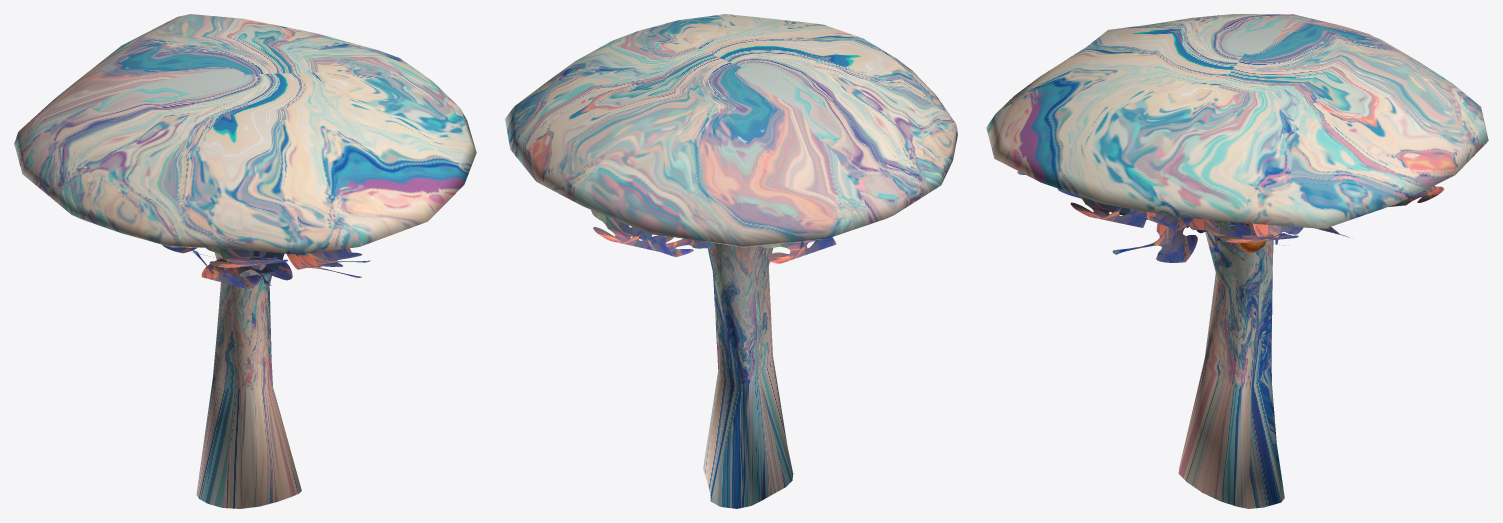
File: guoshimogu.FBX
3 renders of one model, left to right at view 1: azimuth 30°, elevation 25°; view 2: azimuth 150°, elevation 25°; view 3: azimuth 270°, elevation 25°, orthographic. The views are drawn at different scales.
Visible parts, largest first — view 1: 果实蘑菇的果实, 果实蘑菇叶子+杆; view 2: 果实蘑菇的果实, 果实蘑菇叶子+杆; view 3: 果实蘑菇的果实, 果实蘑菇叶子+杆.
Boxes of the visible parts, x1,y1,x2,y2 form: 果实蘑菇的果实: (14, 14, 476, 508); 果实蘑菇叶子+杆: (32, 118, 370, 289); 果实蘑菇的果实: (505, 14, 957, 508); 果实蘑菇叶子+杆: (591, 210, 836, 263); 果实蘑菇的果实: (986, 14, 1488, 508); 果实蘑菇叶子+杆: (1017, 171, 1444, 262).
Bounding box in the file's own units: 55 × 58.58 × 59.89.
7 materials, 6 textured.
